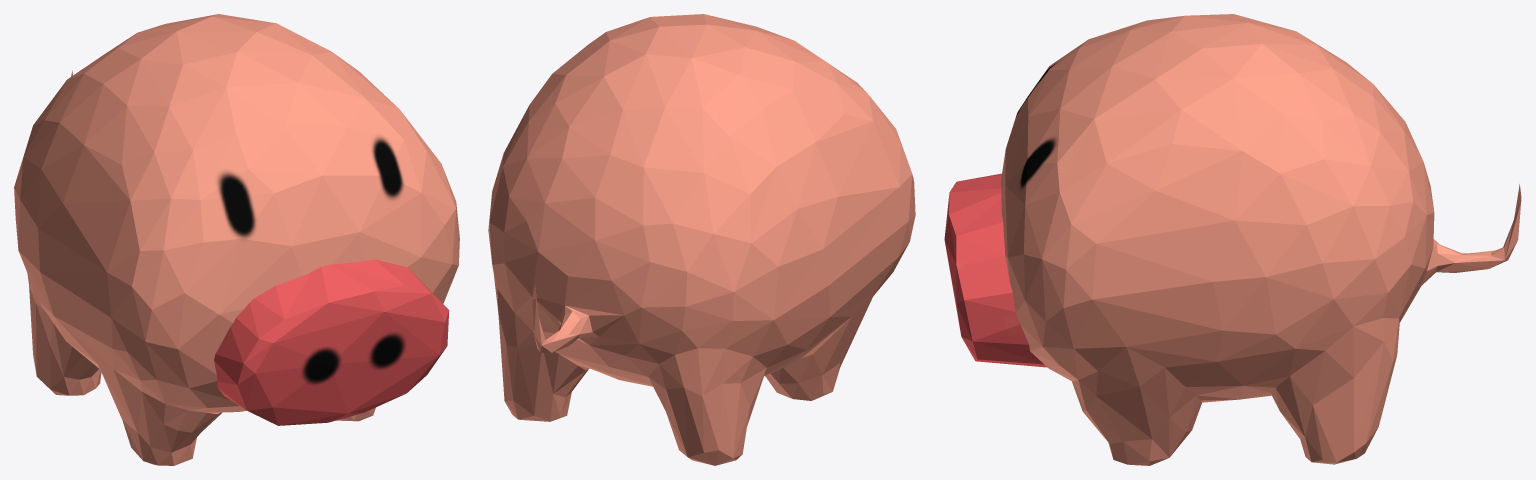
File: Pig_v2.fbx
3 views of the same model, side by side, from view 1: azimuth 30°, elevation 25°; view 2: azimuth 150°, elevation 25°; view 3: azimuth 270°, elevation 25° (orthographic). The views are drawn at different scales.
Visible parts, largest first — view 1: Changed, Cube.051; view 2: Changed; view 3: Changed, Cube.051.
Part boxes in pixels (box(x1,y1,x2,y2)): Changed: box(14, 14, 459, 465); Cube.051: box(214, 259, 449, 425); Changed: box(488, 14, 915, 465); Changed: box(1000, 14, 1521, 465); Cube.051: box(944, 173, 1047, 367).
Bounding box in the file's own units: 2.73 × 2.86 × 3.92.
Materials: 1 (1 with a texture image).
